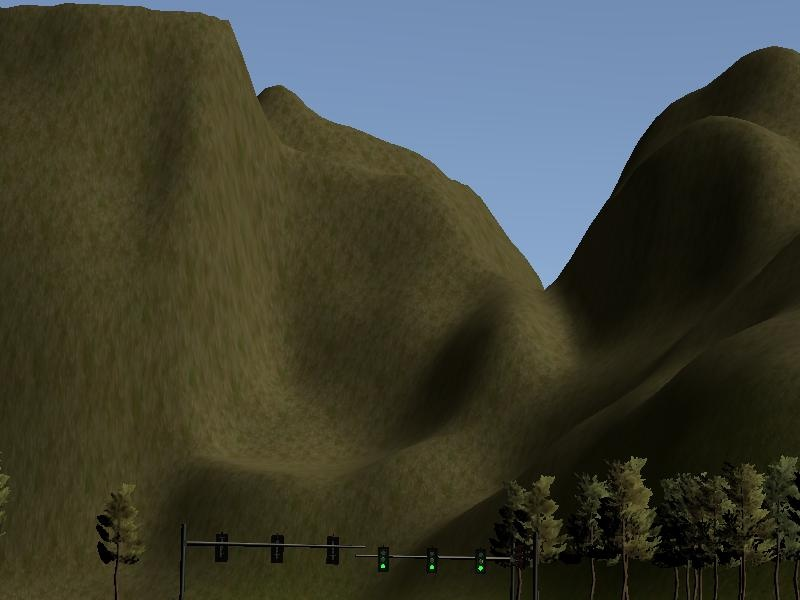green: (424, 547, 439, 575), (474, 547, 487, 575), (375, 547, 390, 571)
